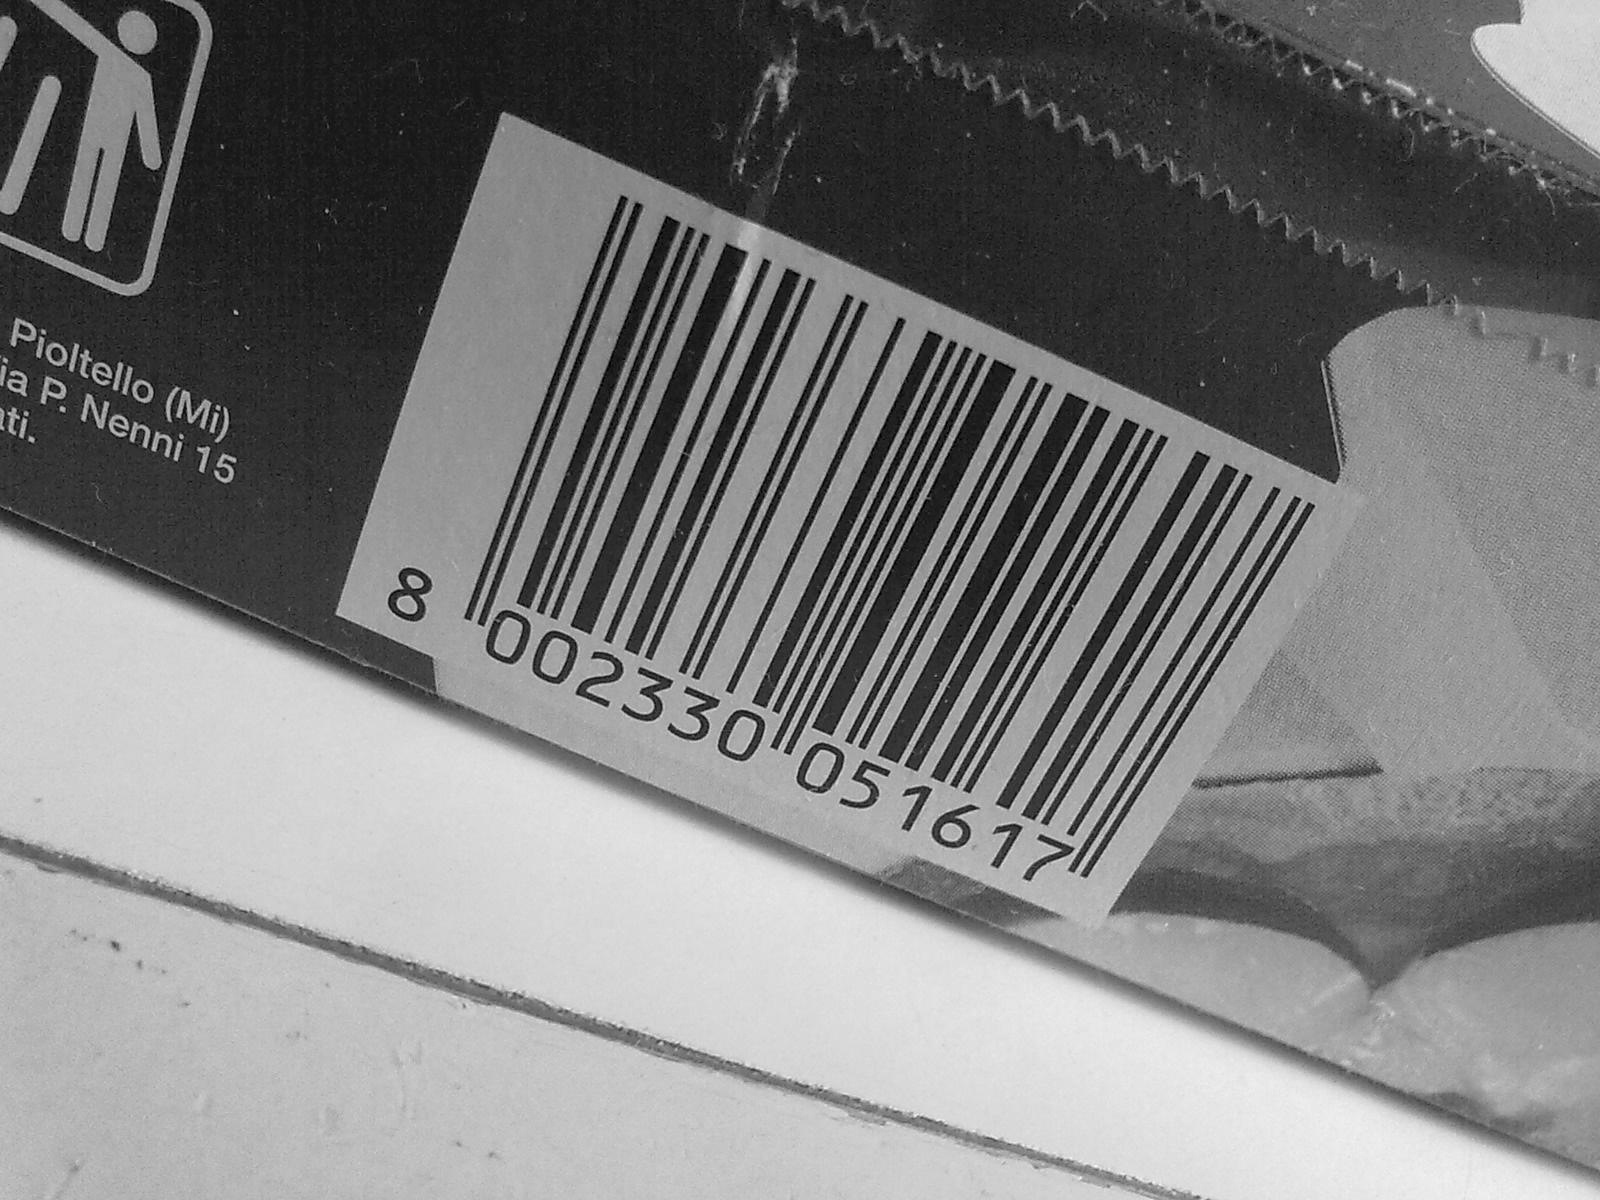Barcode: (454, 144, 1334, 875)
